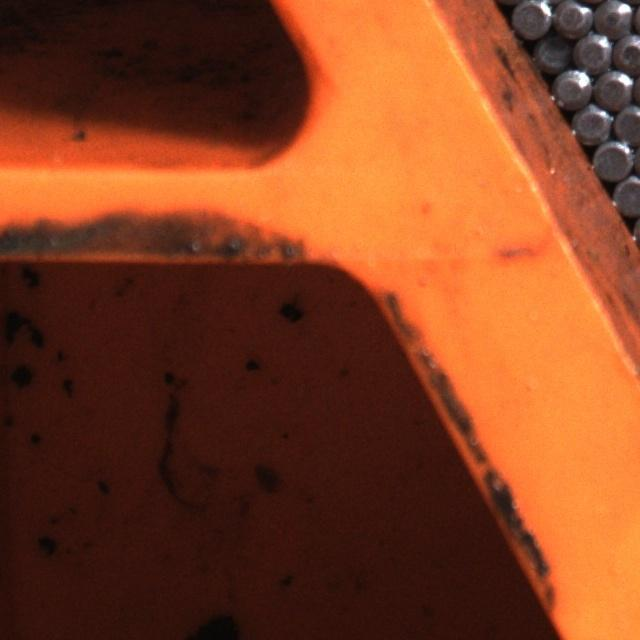tool: (590, 137, 632, 179), (570, 102, 610, 144), (572, 29, 612, 70), (592, 66, 632, 107), (550, 67, 589, 107), (532, 33, 570, 72), (509, 0, 550, 36), (550, 0, 590, 34), (592, 0, 632, 34), (610, 174, 640, 214), (612, 100, 640, 142), (612, 29, 640, 70)
